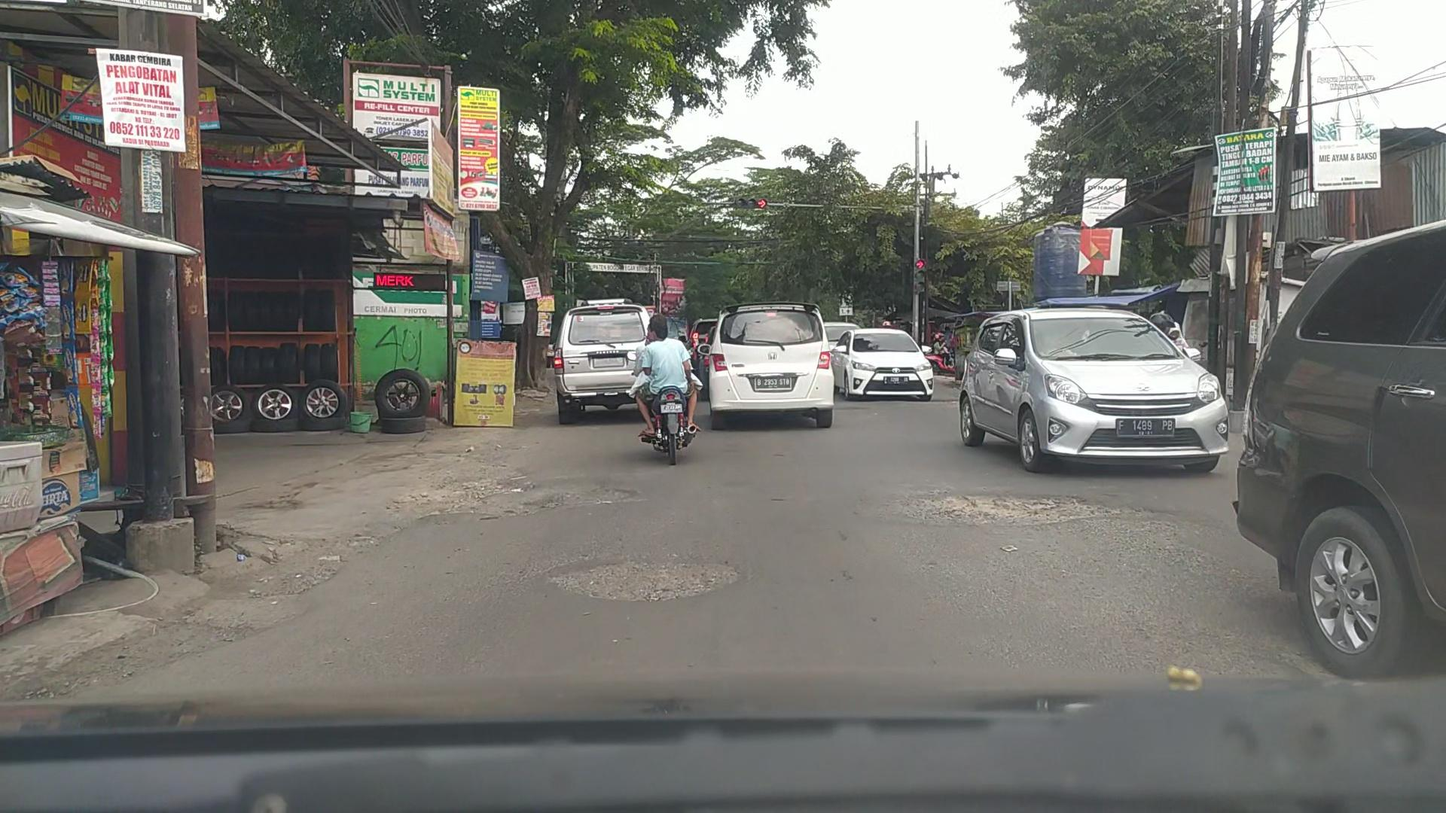pothole: (903, 490, 1171, 529), (545, 552, 745, 604), (459, 484, 638, 520)
